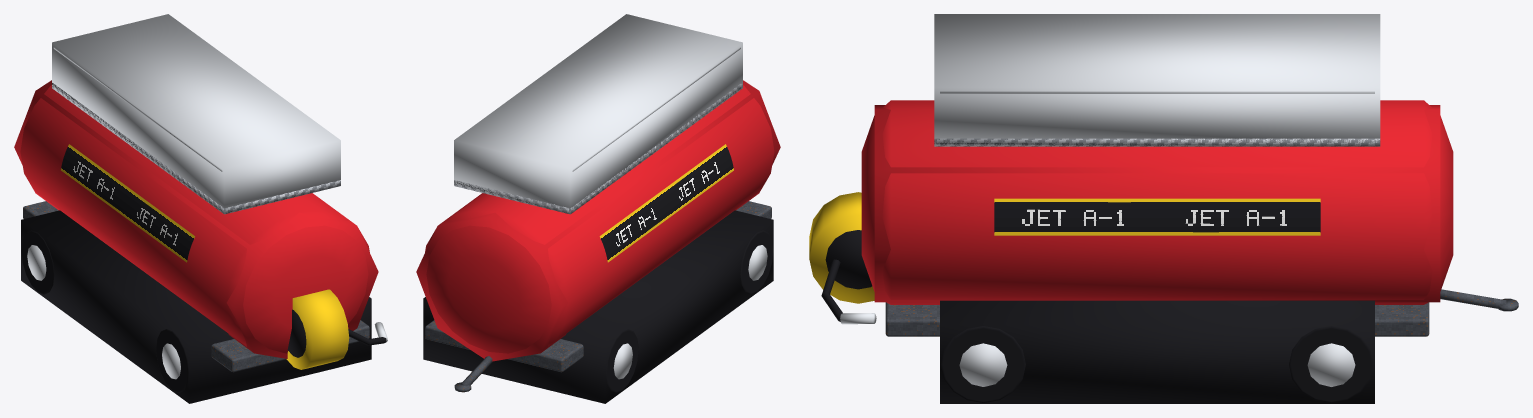
Rendered from p_fuelcart.glb.
3 views of the same model, side by side, from view 1: azimuth 30°, elevation 25°; view 2: azimuth 150°, elevation 25°; view 3: azimuth 270°, elevation 25° (orthographic). The views are drawn at different scales.
Parts seen in each view (by area): view 1: lod1_mesh.003, fc_hp_red, fc_hp_band, fc_hp_yellow, fc_hp_black, fc_hp_plate, fc_hp_steel, fc_hp_chrome; view 2: lod1_mesh.003, fc_hp_red, fc_hp_band, fc_hp_steel, fc_hp_black, fc_hp_plate, fc_hp_chrome; view 3: lod1_mesh.003, fc_hp_red, fc_hp_band, fc_hp_black, fc_hp_chrome, fc_hp_steel, fc_hp_plate, fc_hp_yellow.
Part boxes in pixels (x1=…): lod1_mesh.003: x1=14, y1=14, x2=378, y2=403; fc_hp_red: x1=20, y1=85, x2=369, y2=353; fc_hp_band: x1=61, y1=144, x2=194, y2=262; fc_hp_yellow: x1=286, y1=289, x2=349, y2=369; fc_hp_black: x1=21, y1=230, x2=386, y2=393; fc_hp_plate: x1=52, y1=83, x2=340, y2=214; fc_hp_steel: x1=23, y1=201, x2=369, y2=372; fc_hp_chrome: x1=27, y1=47, x2=387, y2=379; lod1_mesh.003: x1=416, y1=14, x2=780, y2=403; fc_hp_red: x1=425, y1=85, x2=774, y2=353; fc_hp_band: x1=599, y1=144, x2=733, y2=262; fc_hp_steel: x1=425, y1=201, x2=771, y2=392; fc_hp_black: x1=605, y1=230, x2=773, y2=393; fc_hp_plate: x1=454, y1=82, x2=742, y2=213; fc_hp_chrome: x1=572, y1=47, x2=767, y2=379; lod1_mesh.003: x1=874, y1=14, x2=1440, y2=403; fc_hp_red: x1=861, y1=100, x2=1453, y2=304; fc_hp_band: x1=994, y1=198, x2=1320, y2=235; fc_hp_black: x1=821, y1=230, x2=1373, y2=402; fc_hp_chrome: x1=840, y1=91, x2=1374, y2=386; fc_hp_steel: x1=885, y1=289, x2=1518, y2=336; fc_hp_plate: x1=934, y1=138, x2=1380, y2=146; fc_hp_yellow: x1=809, y1=192, x2=874, y2=303.
Bounding box in the file's own units: 2.54 × 3 × 6.52.
7 materials, 3 textured.
